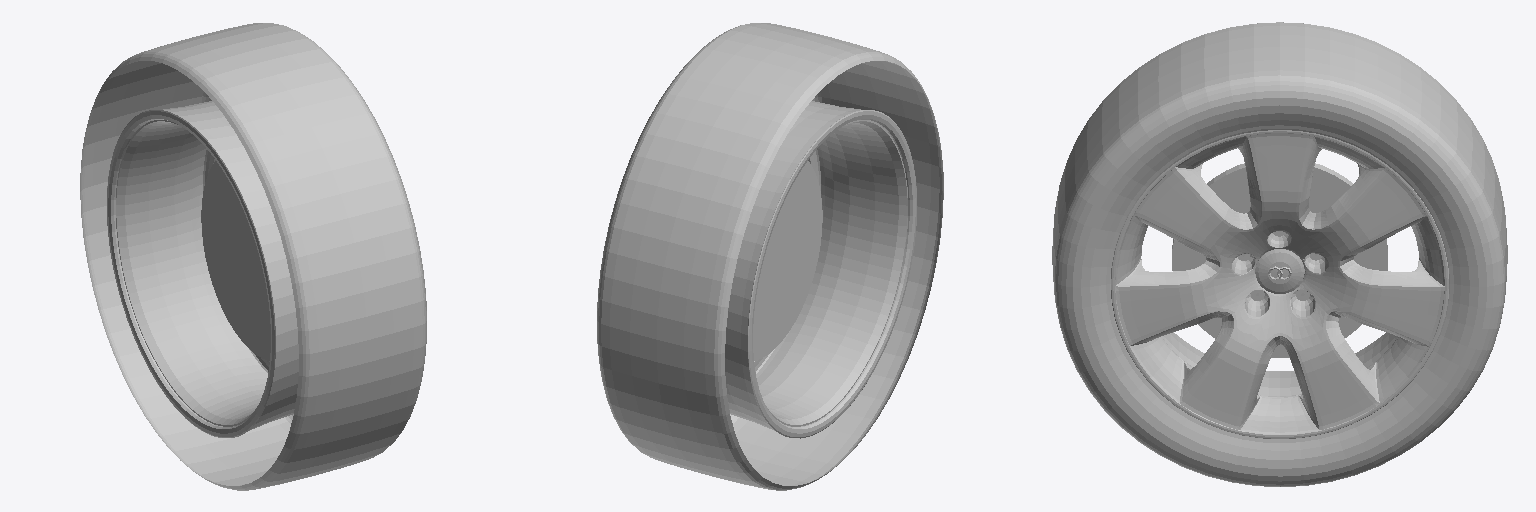
Rendered from llanta_trasera_izquierda_coche.obj.
3 views of the same model, side by side, from view 1: azimuth 30°, elevation 25°; view 2: azimuth 150°, elevation 25°; view 3: azimuth 270°, elevation 25° (orthographic).
Parts seen in each view (by area): view 1: Audi_A6.001; view 2: Audi_A6.001; view 3: Audi_A6.001.
Boxes of the visible parts, box(x1,y1,x2,y2) form: Audi_A6.001: box(80, 23, 426, 490); Audi_A6.001: box(597, 23, 943, 490); Audi_A6.001: box(1052, 22, 1507, 486).
Size of the model in its own units: 3.95 by 11.17 by 11.17.